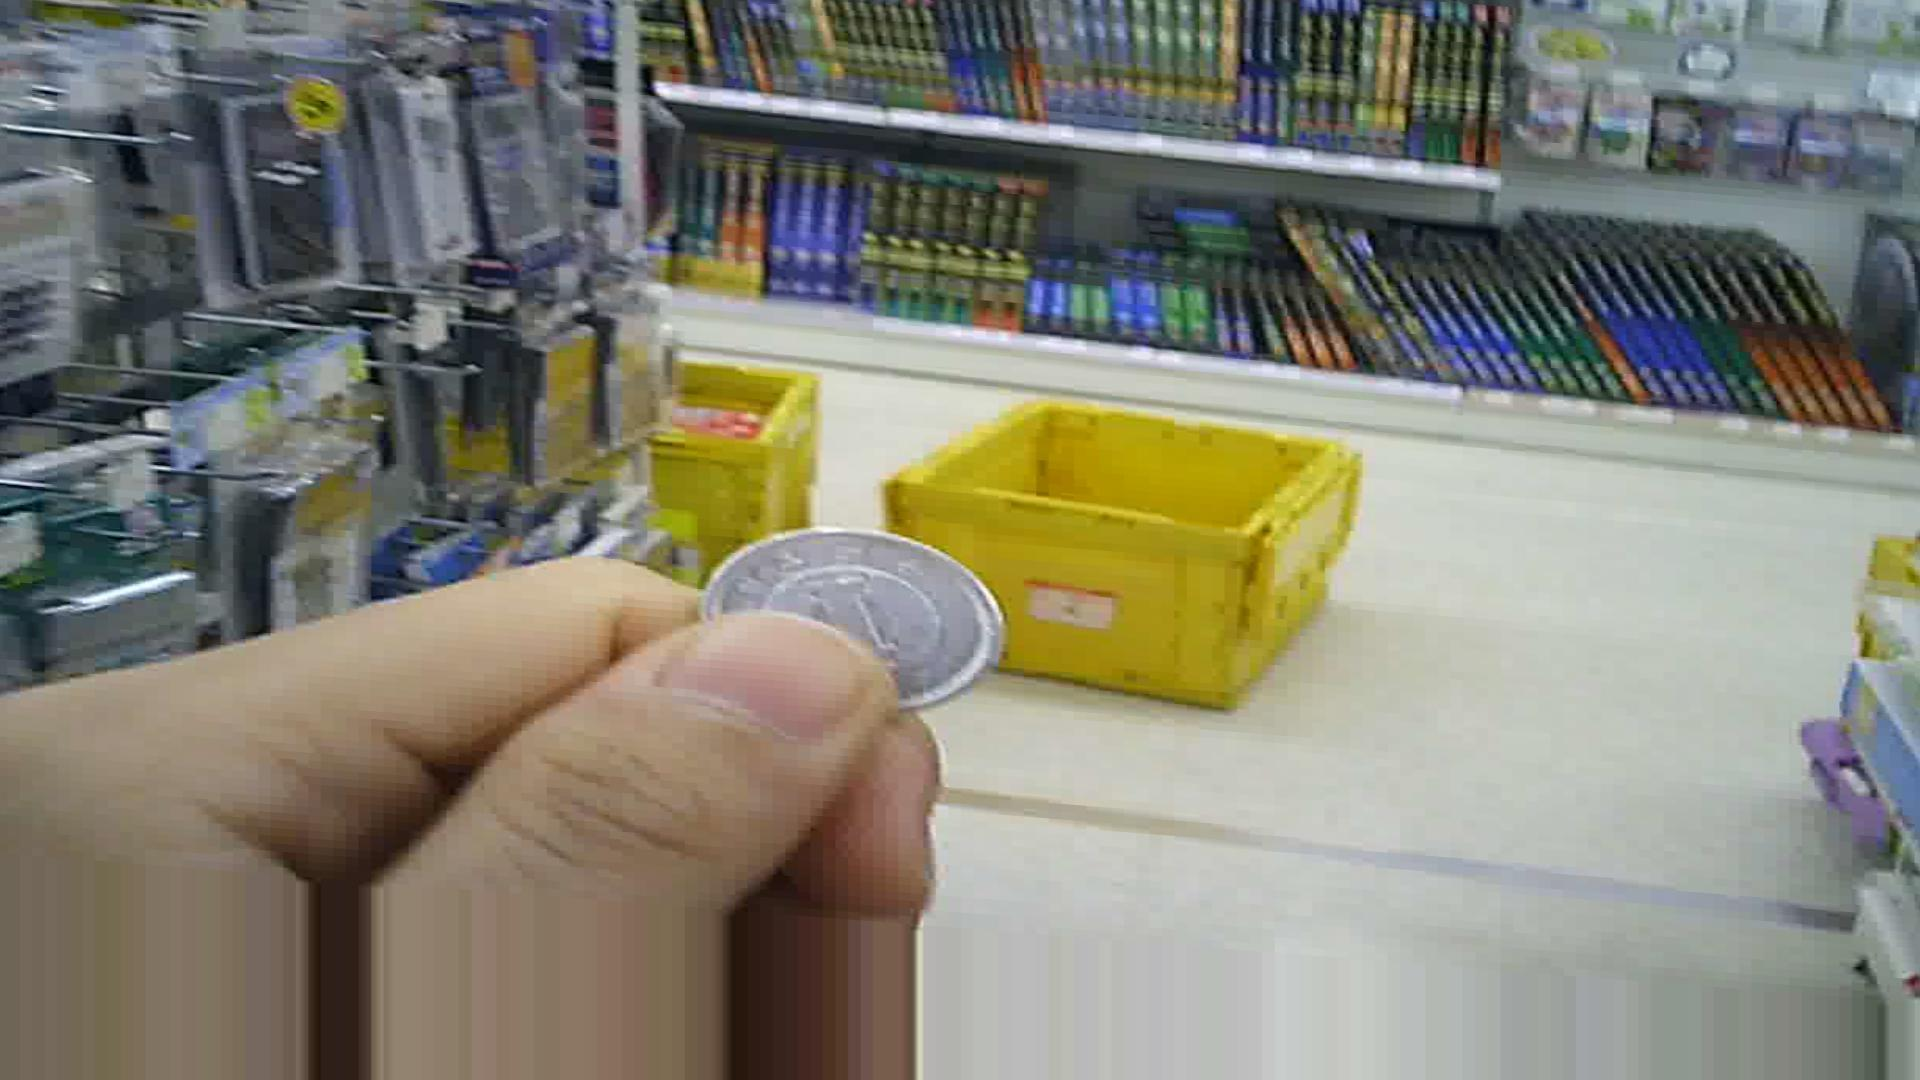1 Yen: (678, 527, 992, 719)
